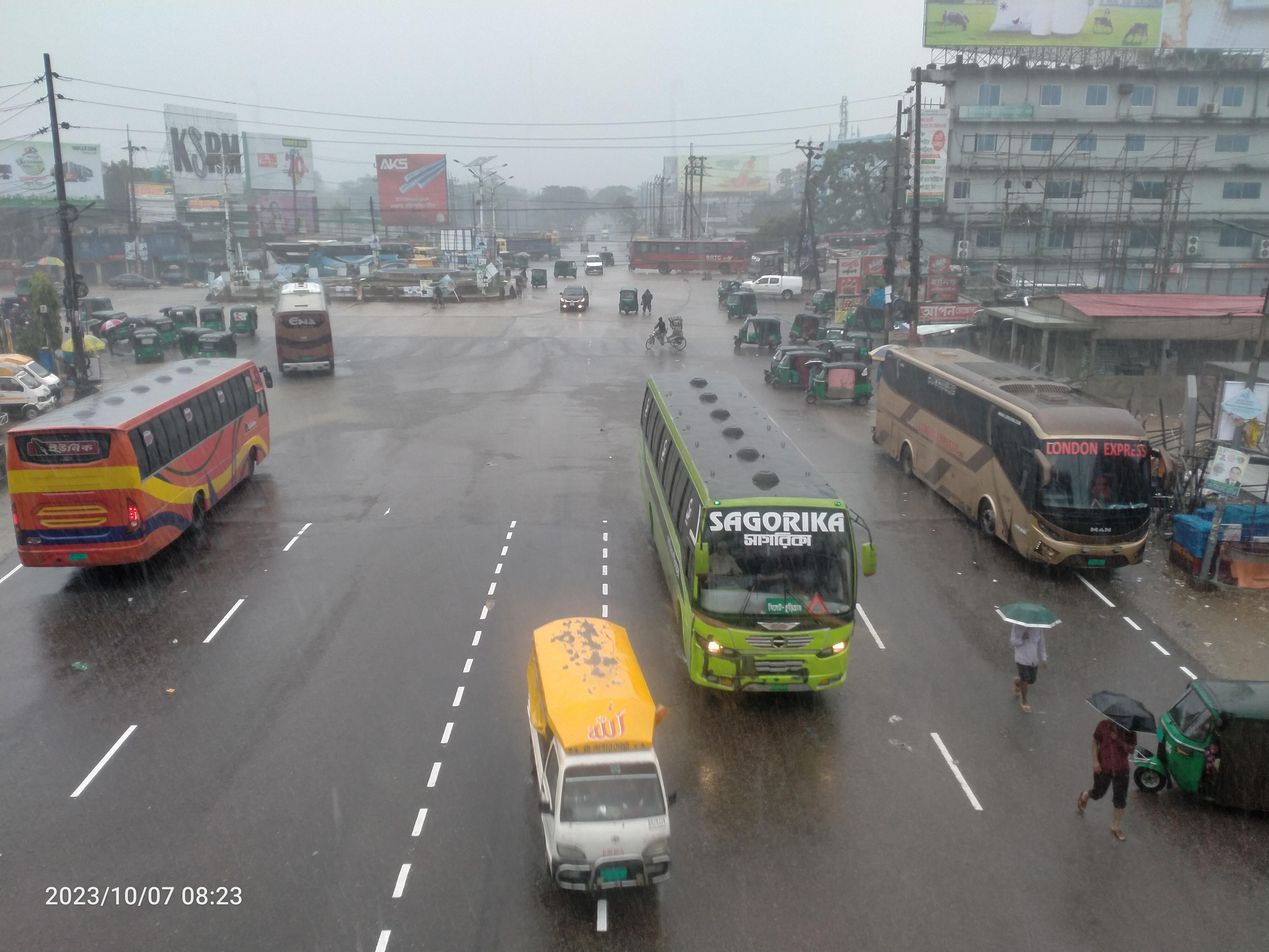Bus: (607, 356, 902, 727), (850, 315, 1171, 578), (0, 338, 284, 598), (254, 264, 351, 388), (619, 225, 752, 273), (307, 228, 384, 285), (254, 226, 319, 285)
Car: (491, 595, 698, 938), (630, 313, 698, 356), (541, 276, 601, 317), (99, 268, 170, 297), (573, 248, 613, 287)
Truck: (410, 234, 447, 276)
